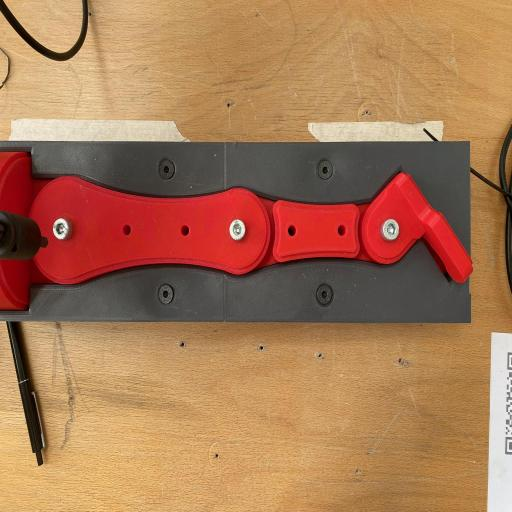Hex-Allen: (374, 218, 401, 252), (226, 217, 252, 252), (50, 216, 74, 249), (154, 278, 176, 311), (313, 280, 336, 311), (155, 157, 179, 186), (318, 158, 337, 182)
